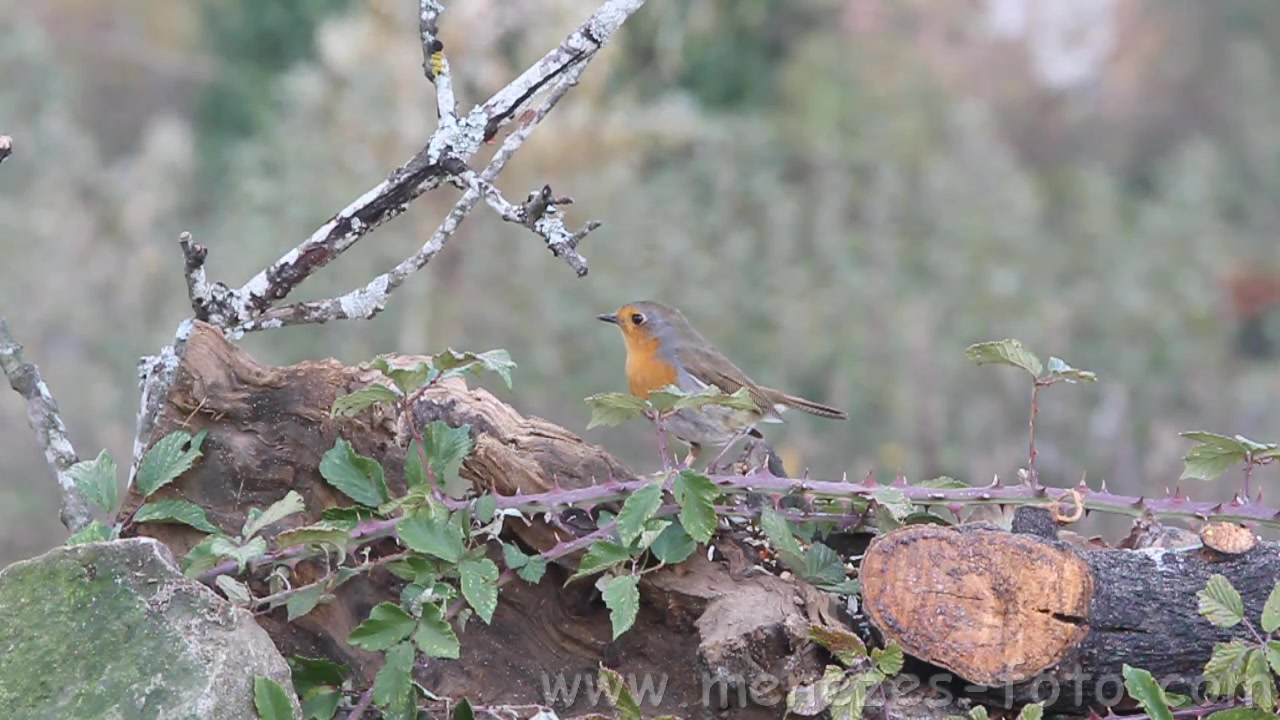bird: (597, 300, 849, 477)
